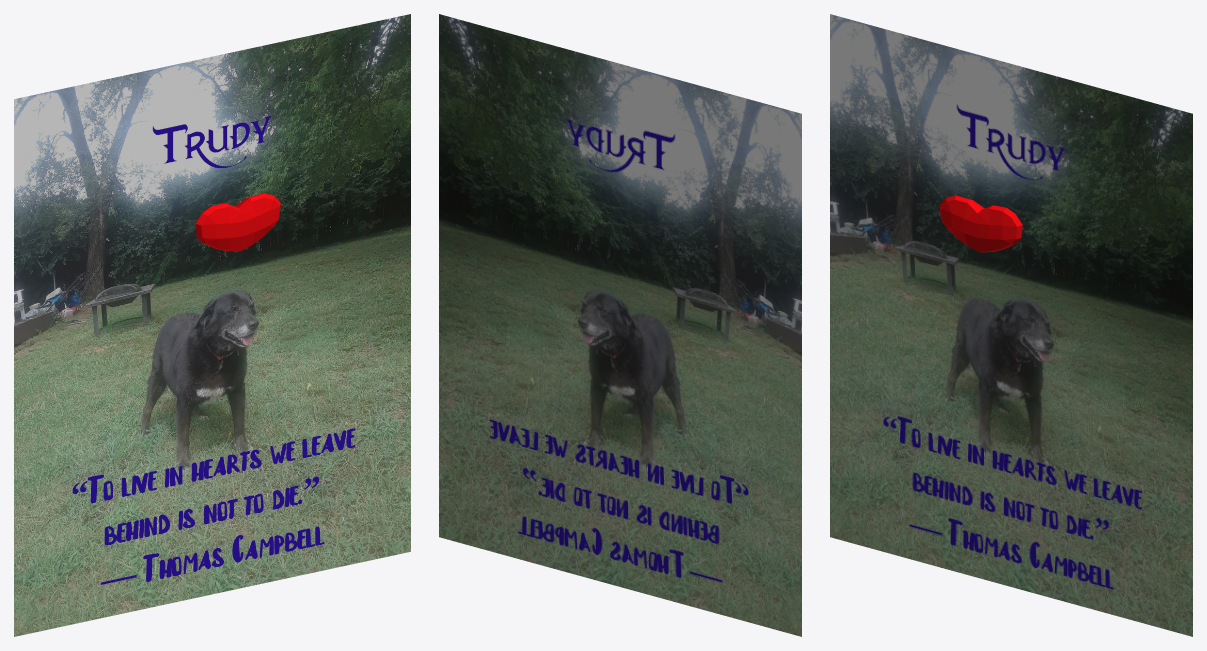
Rendered from TrudyFinal7.glb.
The picture shows the model from 3 angles, left to right: view 1: azimuth 30°, elevation 25°; view 2: azimuth 150°, elevation 25°; view 3: azimuth 330°, elevation 25°; orthographic projection. The views are drawn at different scales.
Visible parts, largest first — view 1: Trudyfinal118594382_10223513385279929_1373313718725162023_n, Mesh_Default_0; view 2: Trudyfinal118594382_10223513385279929_1373313718725162023_n; view 3: Trudyfinal118594382_10223513385279929_1373313718725162023_n, Mesh_Default_0.
Part boxes in pixels (left/top/right/bottom): Trudyfinal118594382_10223513385279929_1373313718725162023_n: left=14, top=14, right=410, bottom=636; Mesh_Default_0: left=195, top=193, right=280, bottom=251; Trudyfinal118594382_10223513385279929_1373313718725162023_n: left=439, top=14, right=801, bottom=636; Trudyfinal118594382_10223513385279929_1373313718725162023_n: left=830, top=14, right=1192, bottom=636; Mesh_Default_0: left=939, top=195, right=1022, bottom=252.
Bounding box in the file's own units: 0.9689 × 1.29 × 0.1707.
2 materials, 1 textured.
